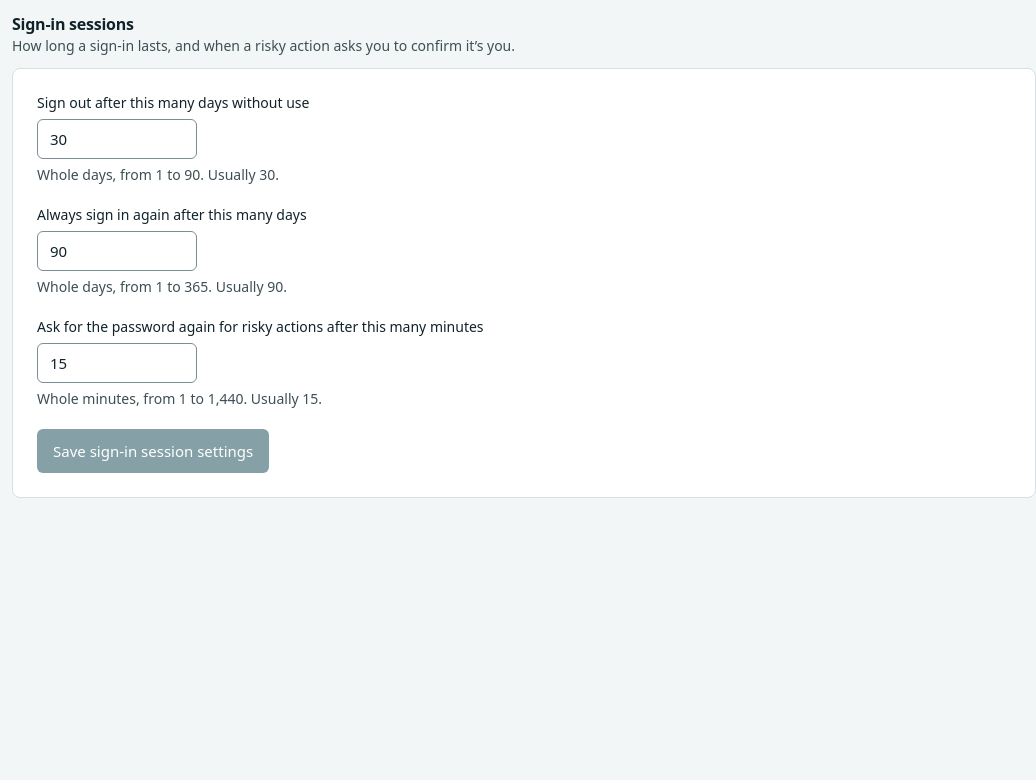
Test case: sign-in sessions card › names a conflict the way the other settings do
The image size is (1036, 780).
Replace the text in the number field labelled "Sign out after this many days without use" with "20" at (117, 139), box [37,119,197,159]
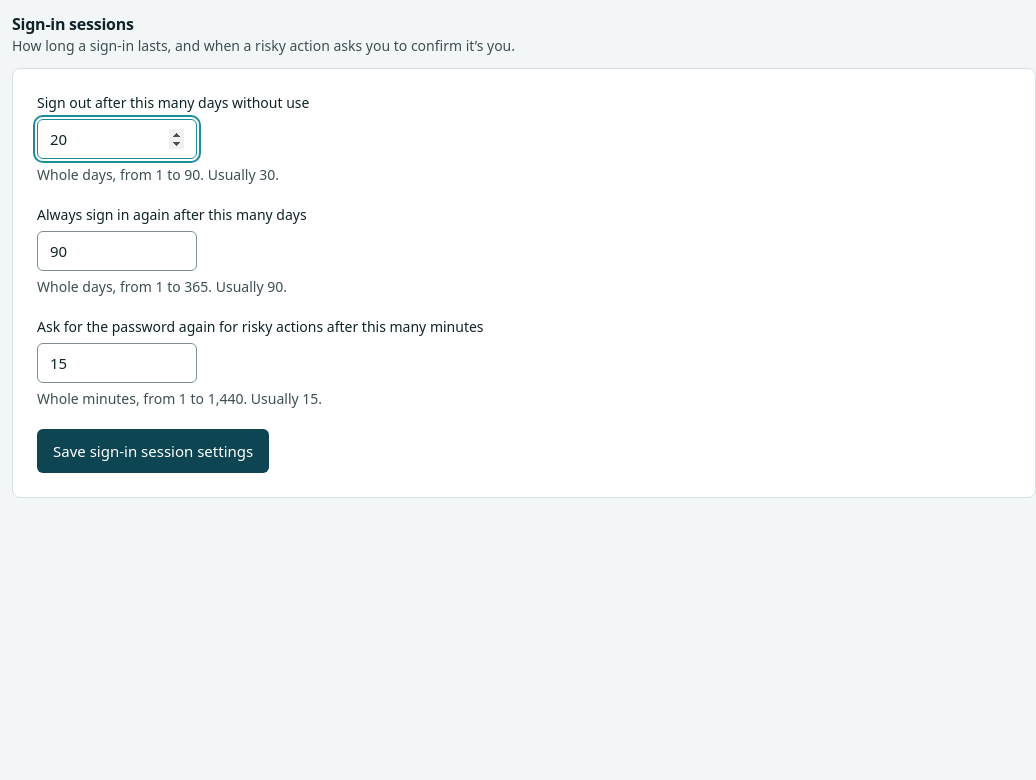
Click the button "Save sign-in session settings" at (153, 451), box [37,429,269,473]
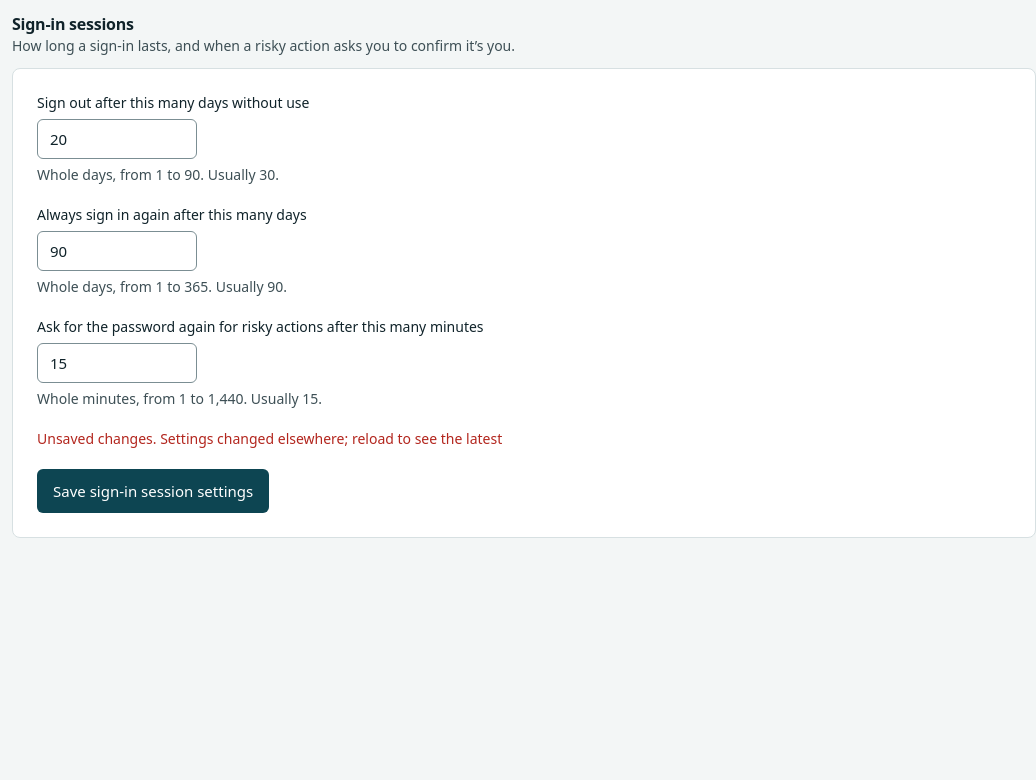
Expected: the message shows "Settings changed elsewhere; reload to see the latest", [160,429,502,448]
